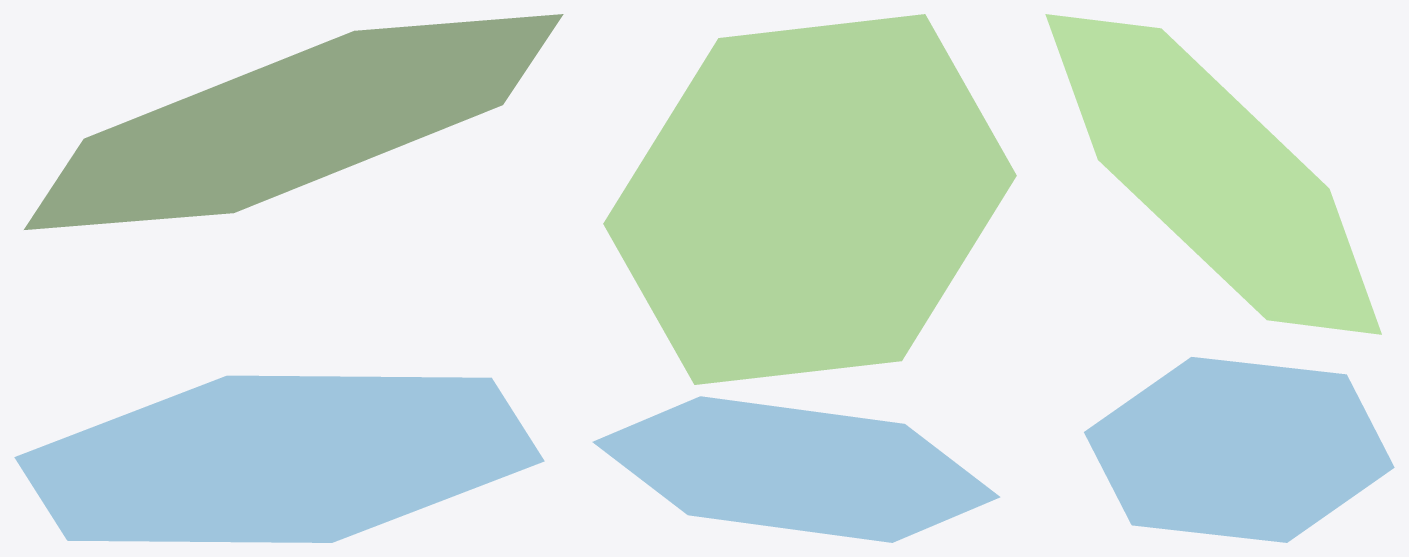
File: p_ex5a_hexagono.glb
3 renders of one model, left to right at view 1: azimuth 30°, elevation 25°; view 2: azimuth 150°, elevation 25°; view 3: azimuth 270°, elevation 25°, orthographic. The views are drawn at different scales.
Bounding box in the file's own units: 5.64 × 5.86 × 4.45.
